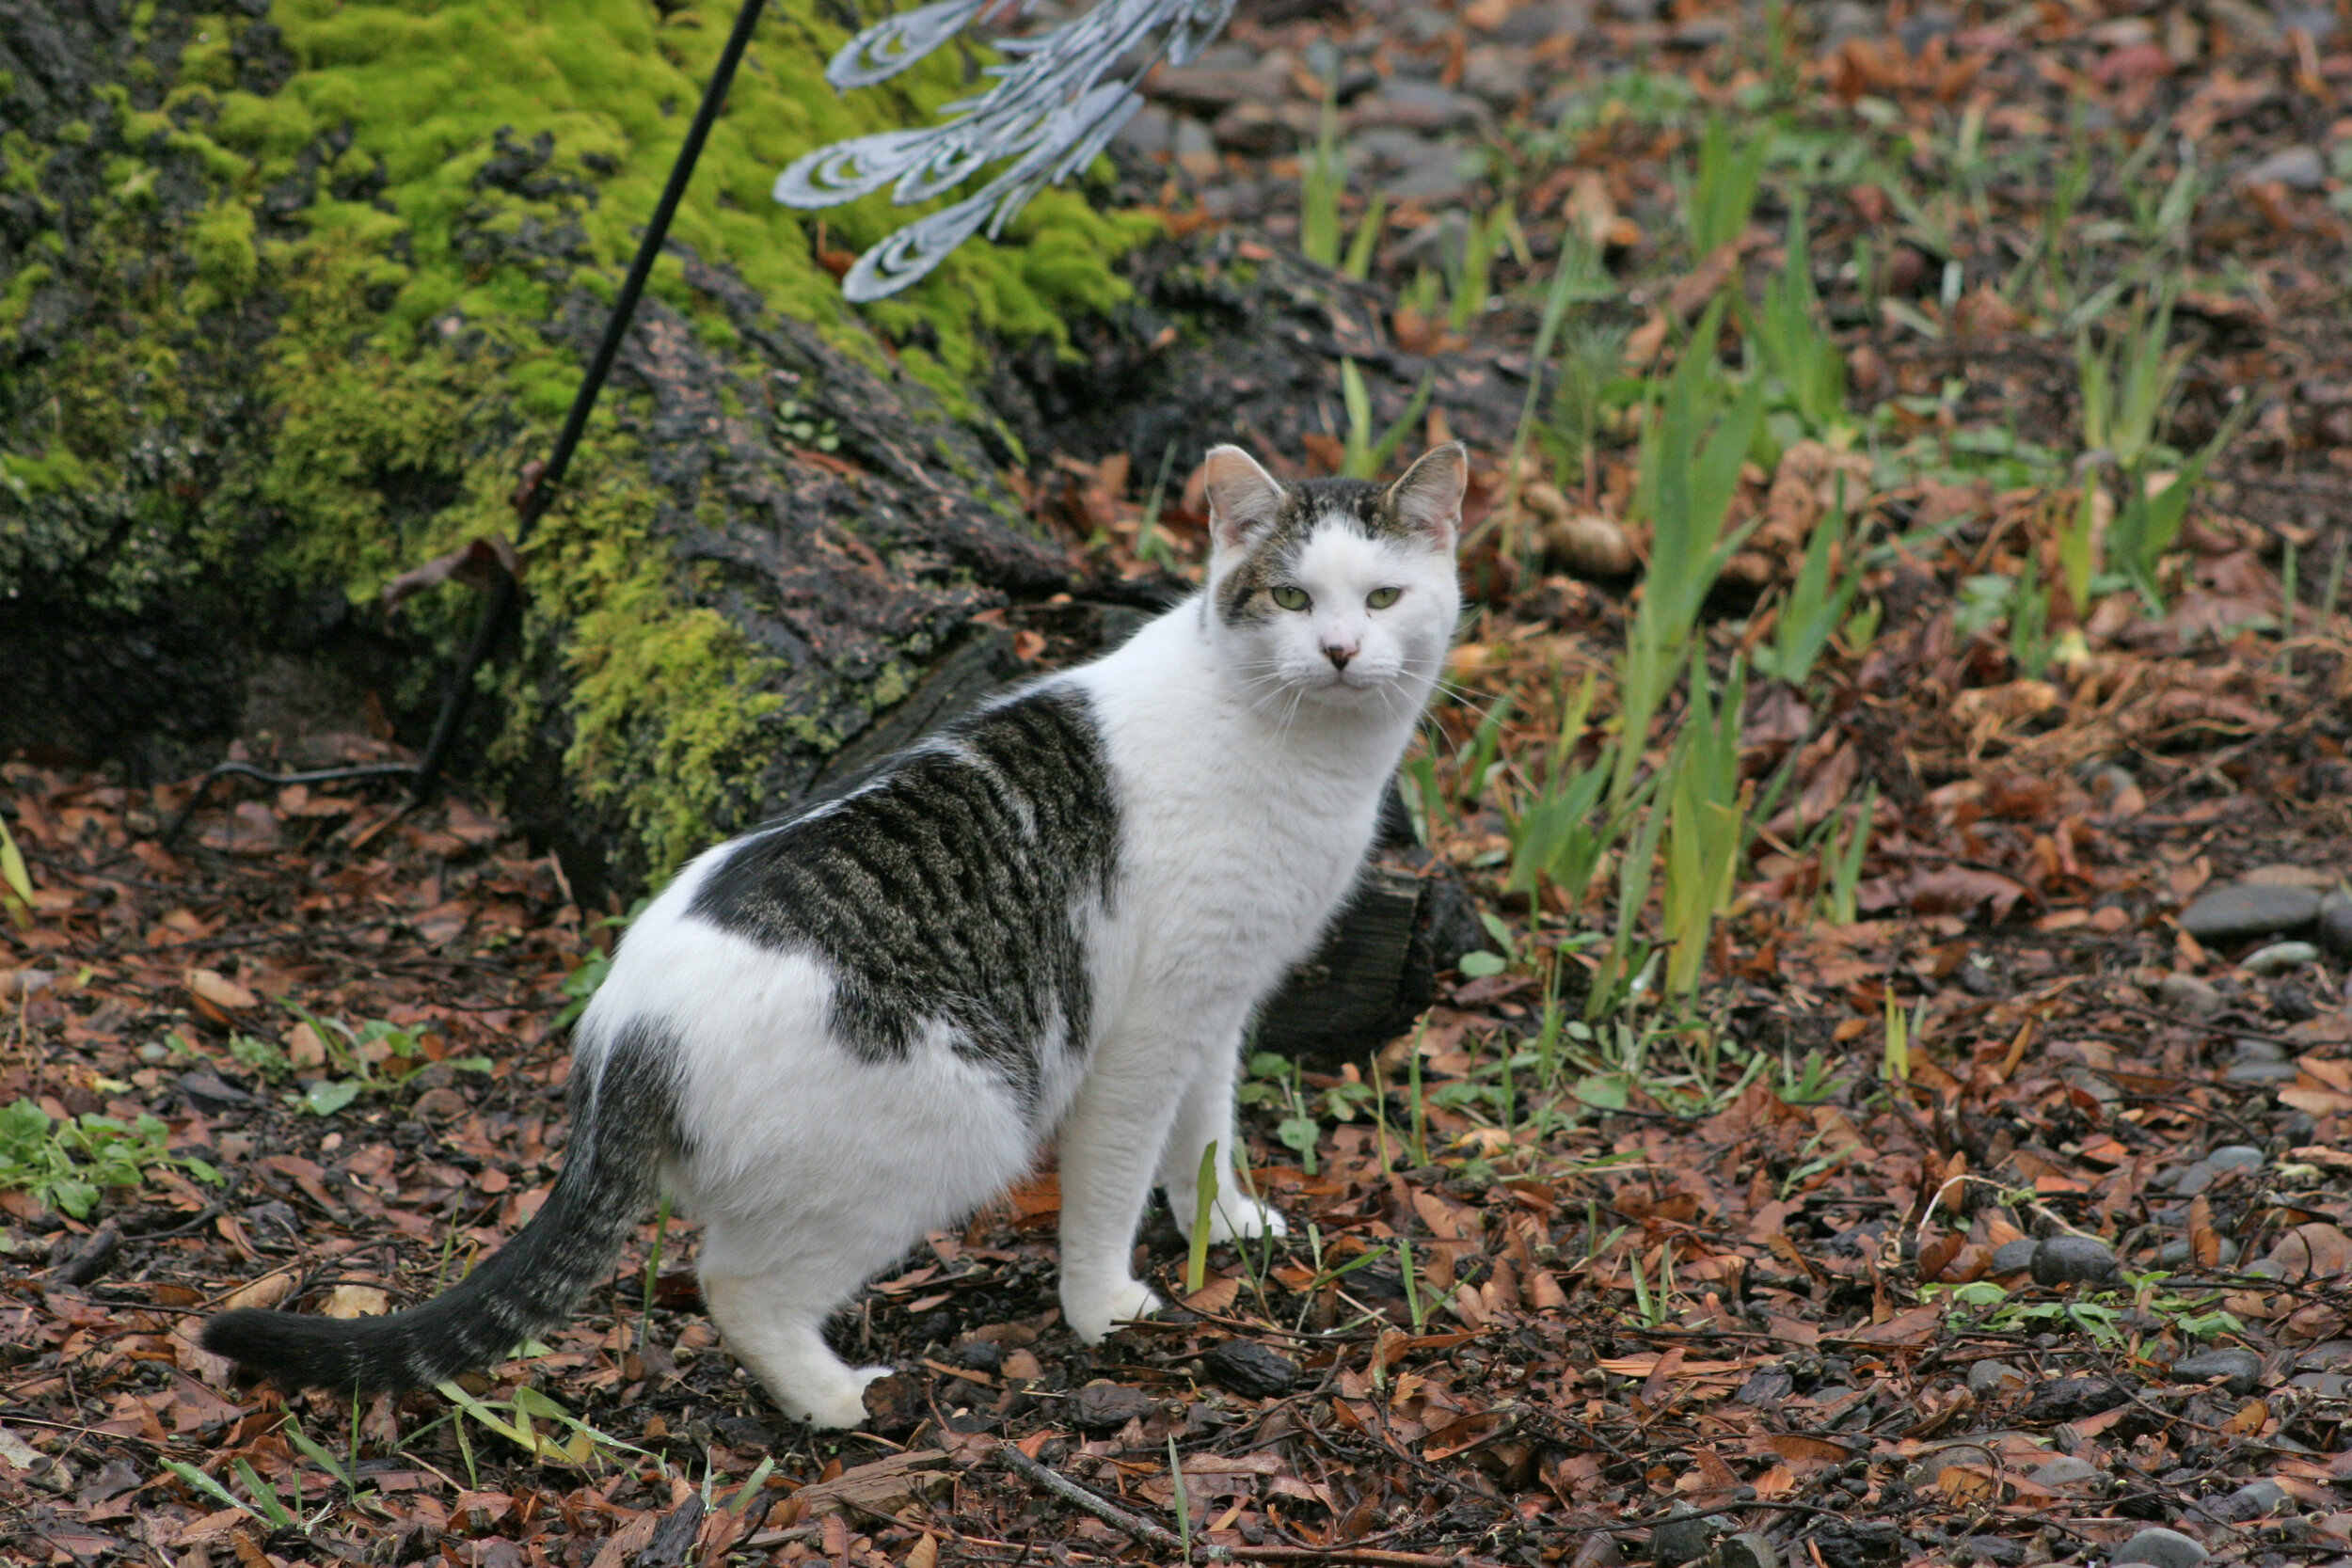Cat: (507, 402, 1522, 1463)
